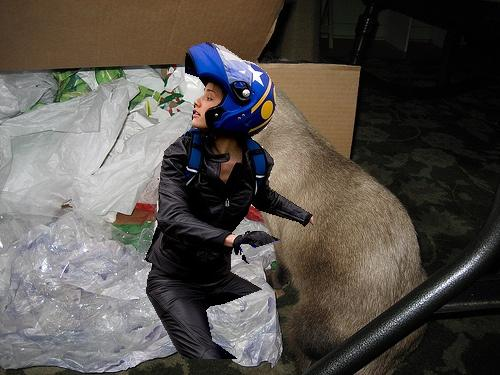tampered: (145, 43, 313, 359)
